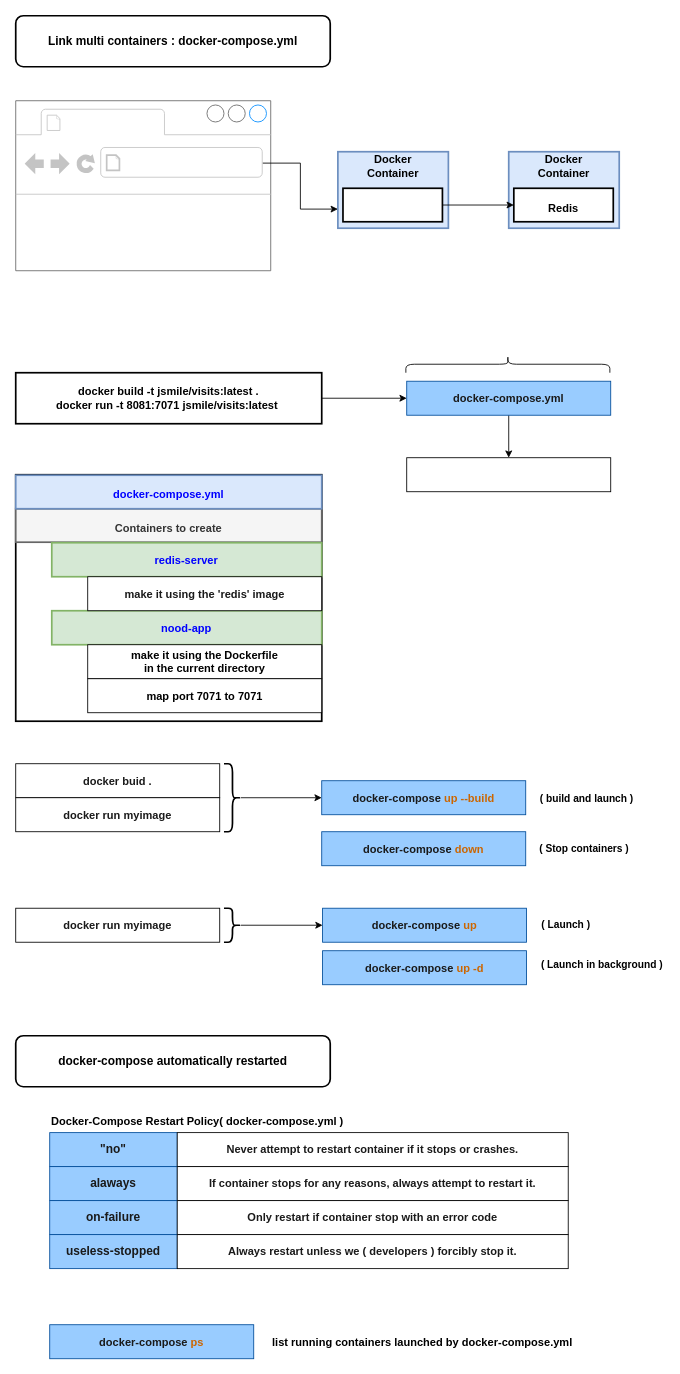
The diagram is 680 pixels wide and 1374 high, and some of its shapes have lost their labels. Here are the shapes that lost their labels. From the top down, the box of each, then its label:
(63, 108, 151, 127): Page 1
(118, 153, 263, 172): http://localhost:7070
(342, 187, 443, 222): Node JS Web App
(405, 355, 610, 373): Contains all the options we'd normally pass to docker-CLI
(406, 457, 611, 492): docker-compose Client
